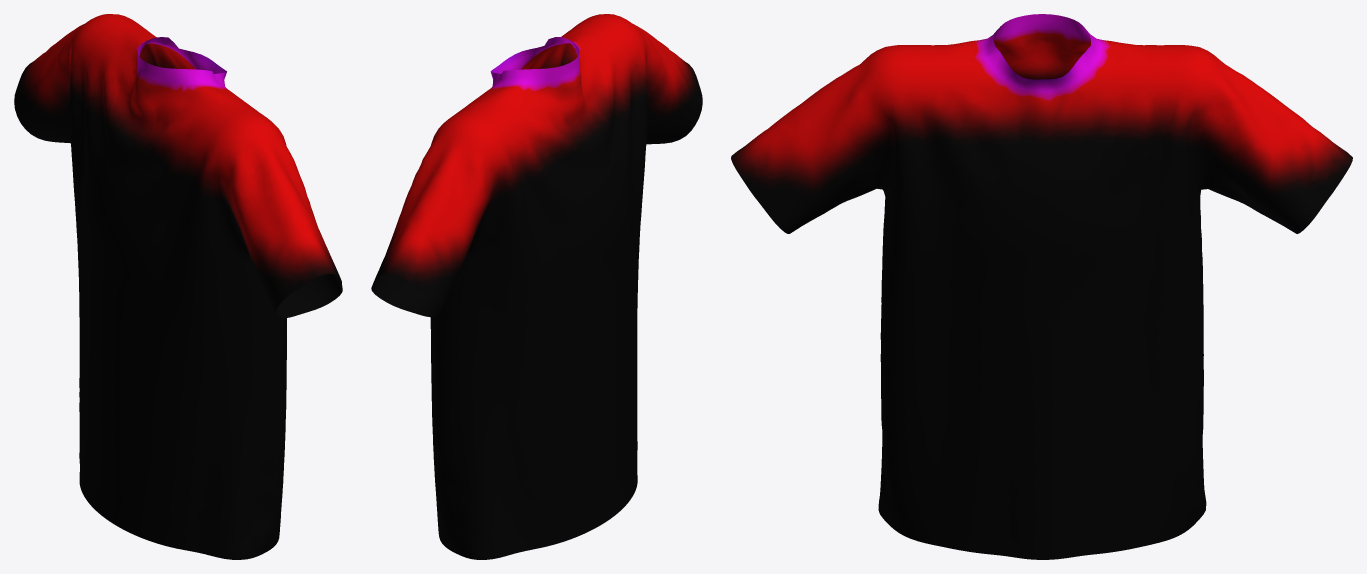
Rendered from heavyweight_tee.fbx.
3 views of the same model, side by side, from view 1: azimuth 30°, elevation 25°; view 2: azimuth 150°, elevation 25°; view 3: azimuth 270°, elevation 25° (orthographic). The views are drawn at different scales.
Parts seen in each view (by area): view 1: heavyweight_tee; view 2: heavyweight_tee; view 3: heavyweight_tee.
Part boxes in pixels (bbox=[...]): heavyweight_tee: bbox=[14, 14, 342, 559]; heavyweight_tee: bbox=[371, 14, 702, 559]; heavyweight_tee: bbox=[731, 14, 1352, 559].
Bounding box in the file's own units: 23.53 × 77.53 × 66.92.
